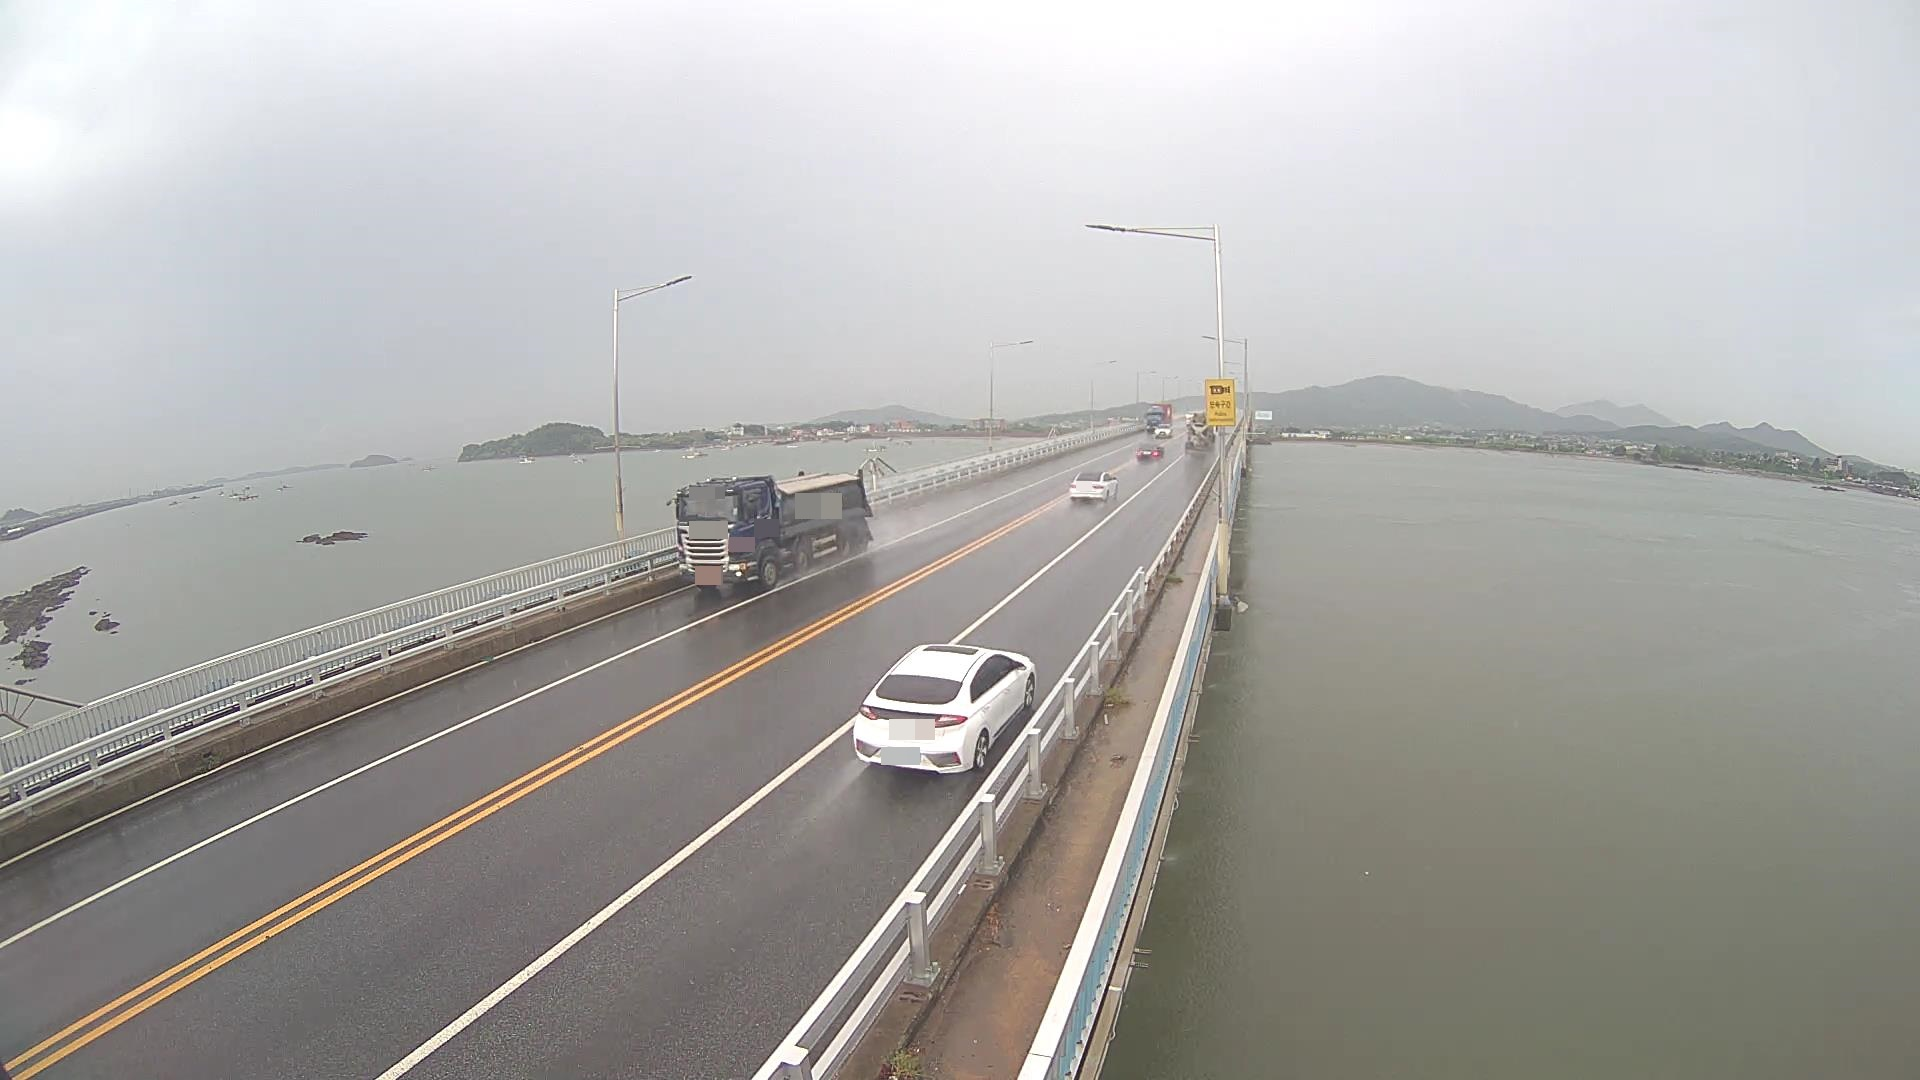정상차량: (666, 468, 873, 592)
